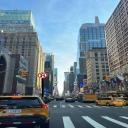NoVirarU: (38, 71, 49, 80)
